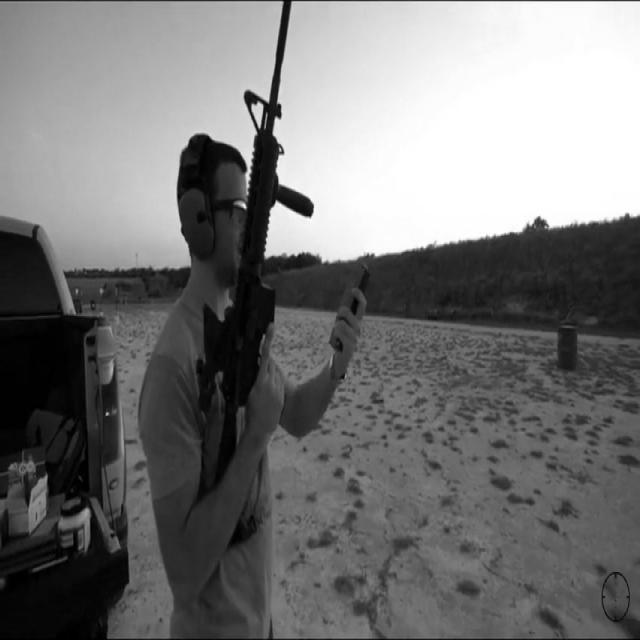Sniper: (153, 0, 394, 593)
